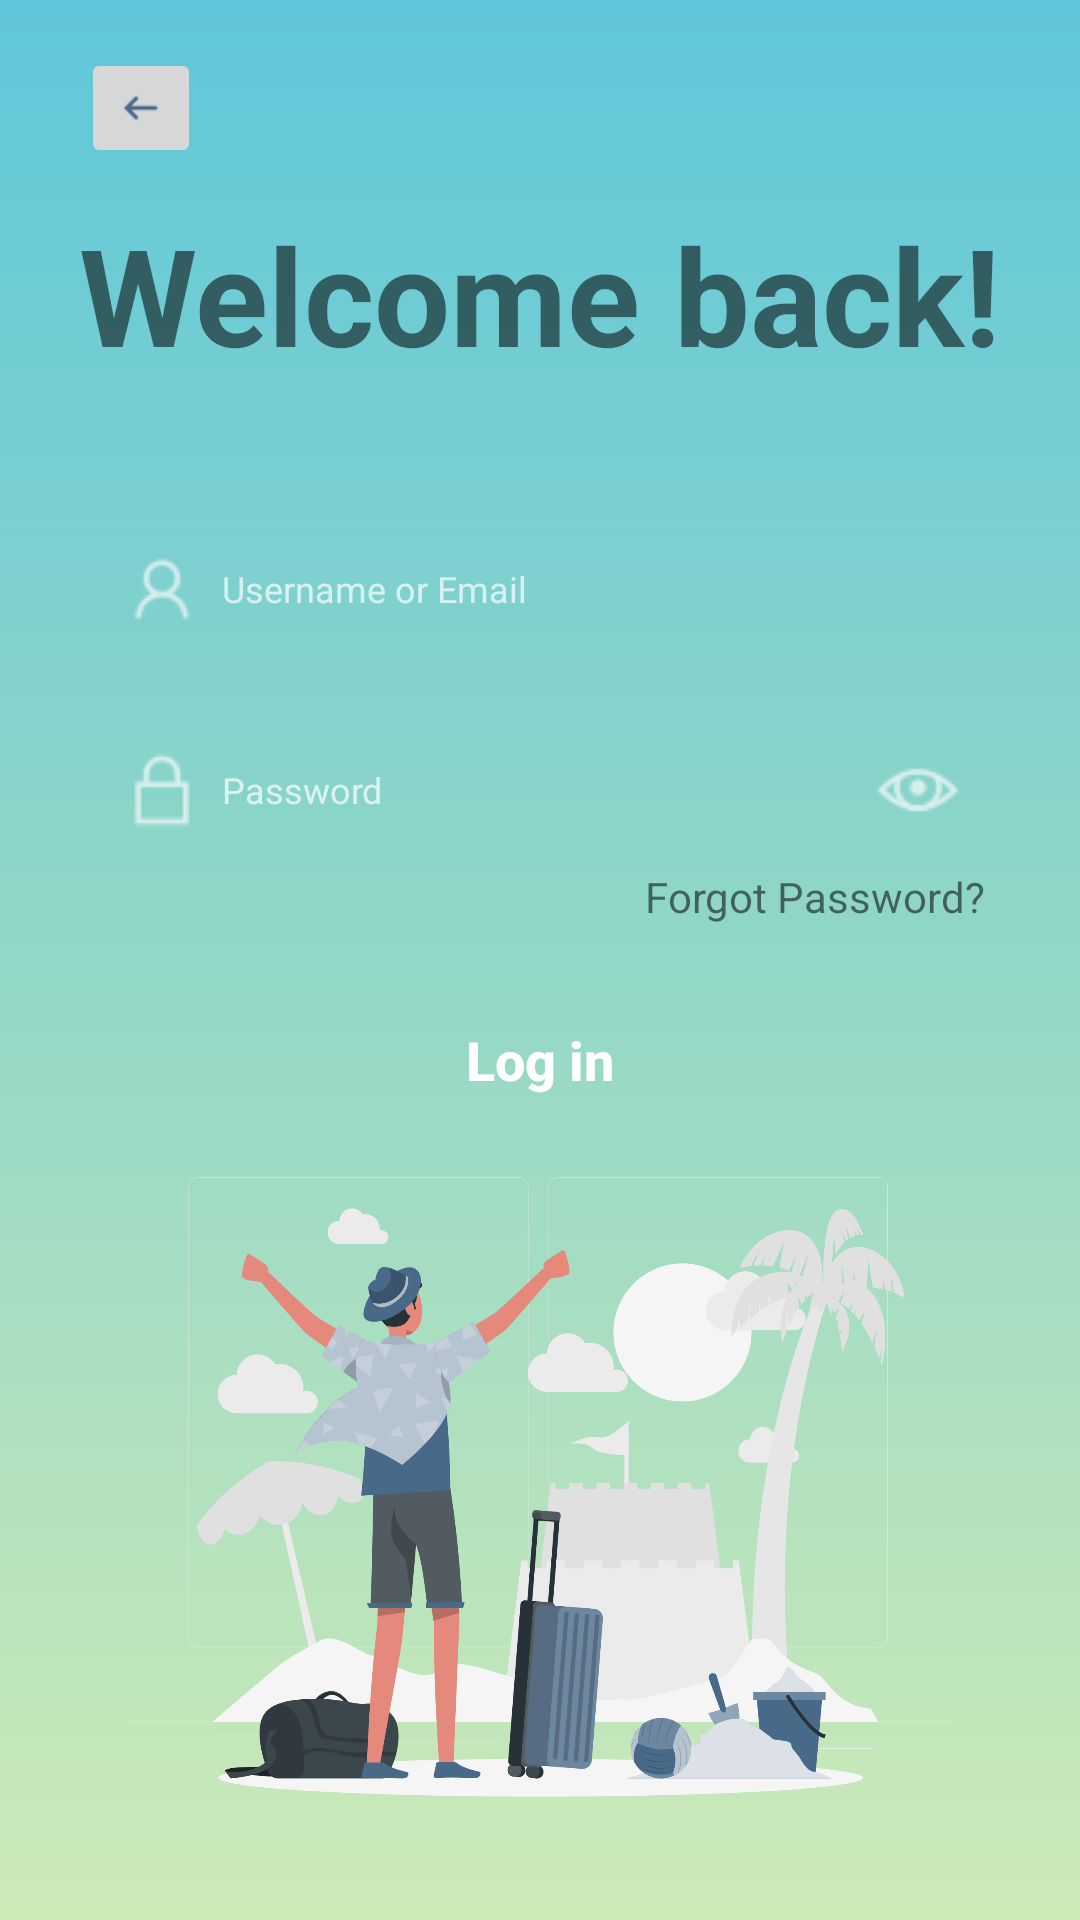

Icon bounding boxes for this 1080x1920 phone screenshot, format bbox=[x1, y1, x2, y2]:
left: bbox=[93, 66, 189, 150]
